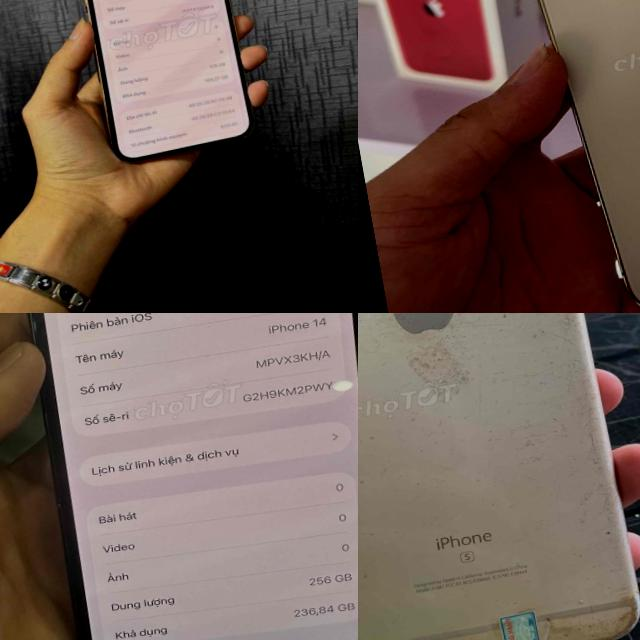scratch: (498, 380, 640, 553), (358, 568, 640, 640), (358, 313, 527, 419), (497, 313, 612, 364)
